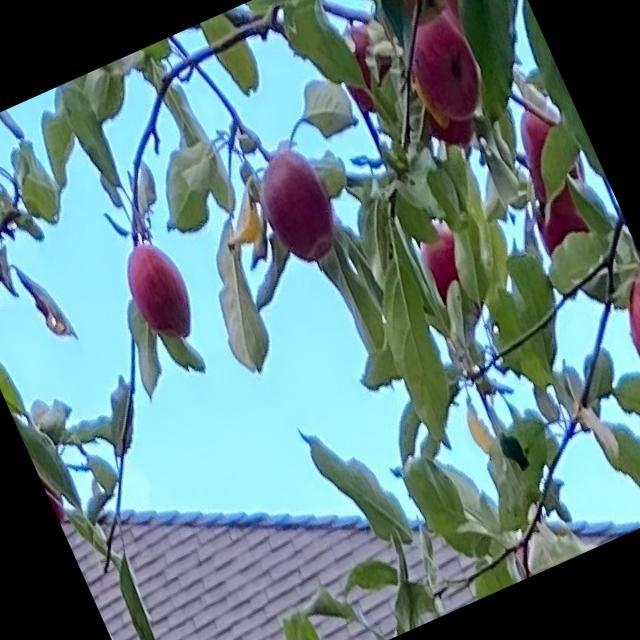100-_ripeness: (394, 9, 491, 124), (117, 237, 206, 348), (506, 94, 594, 199), (523, 178, 604, 278), (326, 20, 406, 119), (412, 218, 476, 298), (612, 271, 639, 416), (428, 101, 482, 154), (369, 0, 461, 28), (37, 466, 72, 524)
